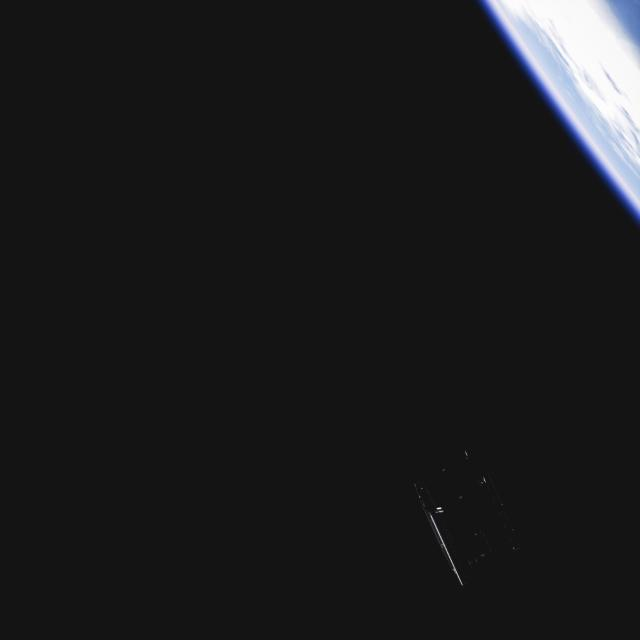medium_debris: (409, 452, 518, 586)
